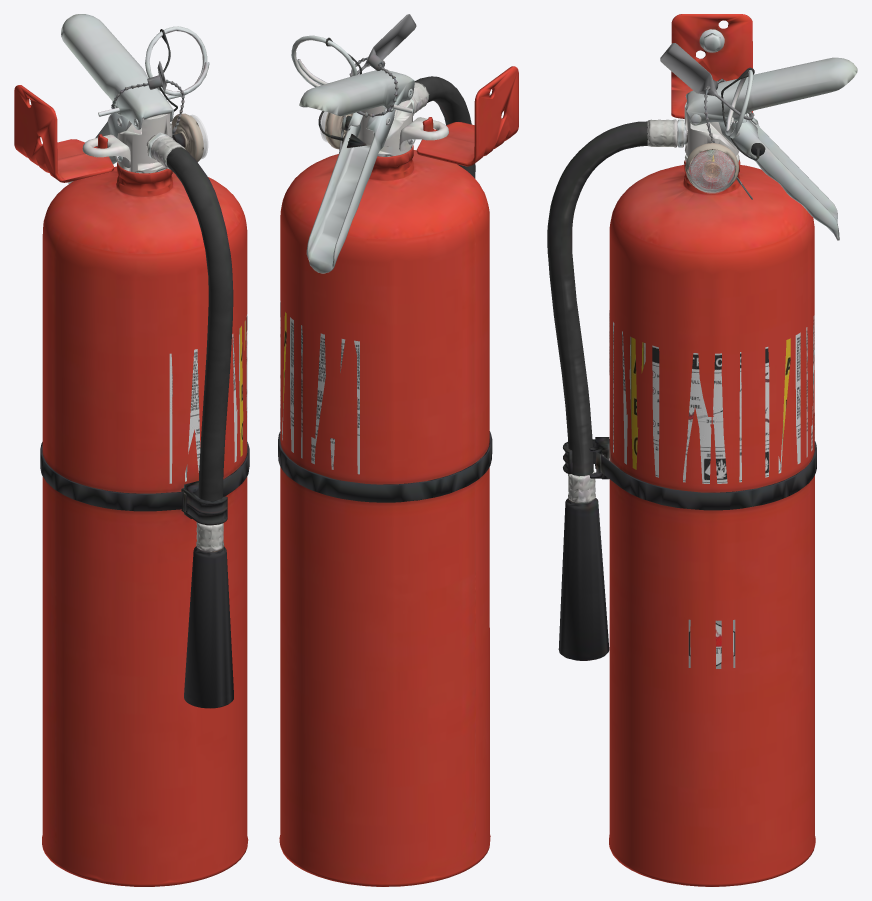
File: nvidia-fire-extinguisher-abc.glb
The picture shows the model from 3 angles, left to right: view 1: azimuth 30°, elevation 25°; view 2: azimuth 150°, elevation 25°; view 3: azimuth 270°, elevation 25°; orthographic projection. The views are drawn at different scales.
Parts seen in each view (by area): view 1: sm_fireExtinguisher_a03_mesh_00.001; view 2: sm_fireExtinguisher_a03_mesh_00.001; view 3: sm_fireExtinguisher_a03_mesh_00.001, sm_glass_a03_mesh_00.
Boxes of the visible parts, bbox=[...] form: sm_fireExtinguisher_a03_mesh_00.001: bbox=[14, 14, 249, 886]; sm_fireExtinguisher_a03_mesh_00.001: bbox=[278, 14, 518, 886]; sm_fireExtinguisher_a03_mesh_00.001: bbox=[547, 14, 857, 886]; sm_glass_a03_mesh_00: bbox=[689, 150, 734, 193].
Size of the model in its own units: 0.1439 by 0.5448 by 0.1919.
Materials: 3 (2 with a texture image).
